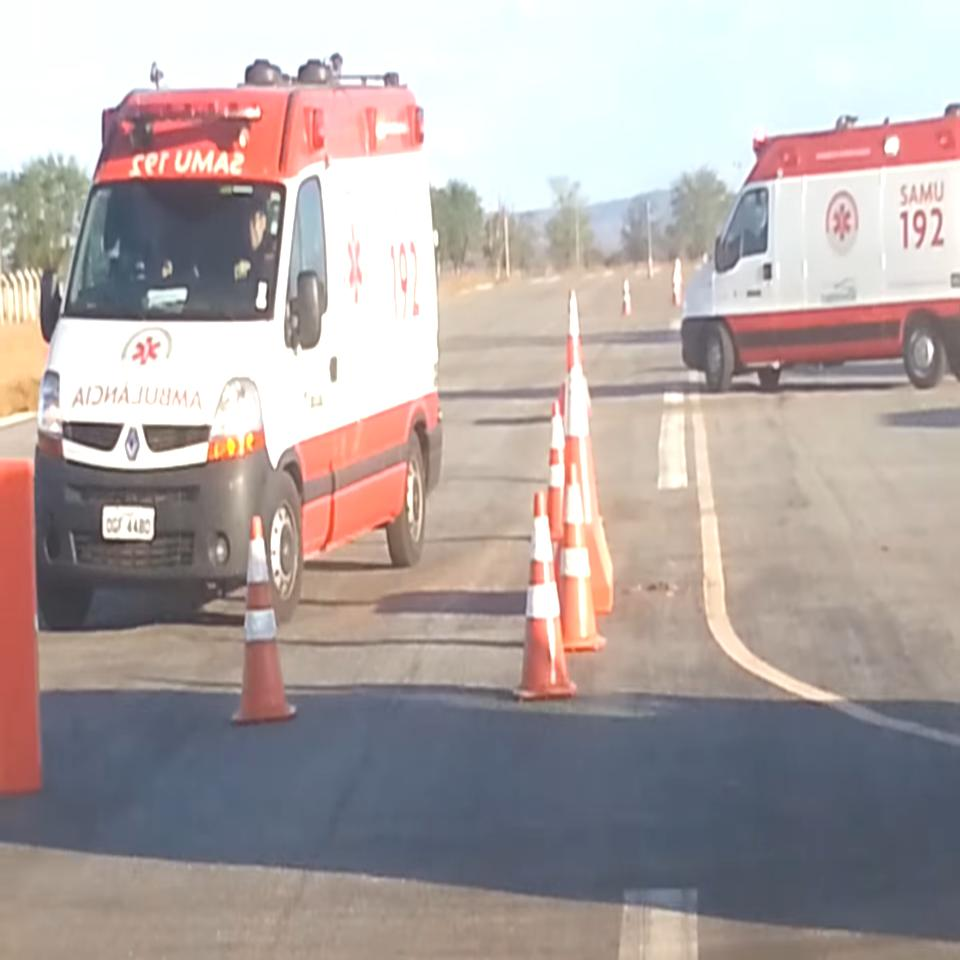ambulancia: (36, 48, 448, 615), (678, 99, 960, 396)
